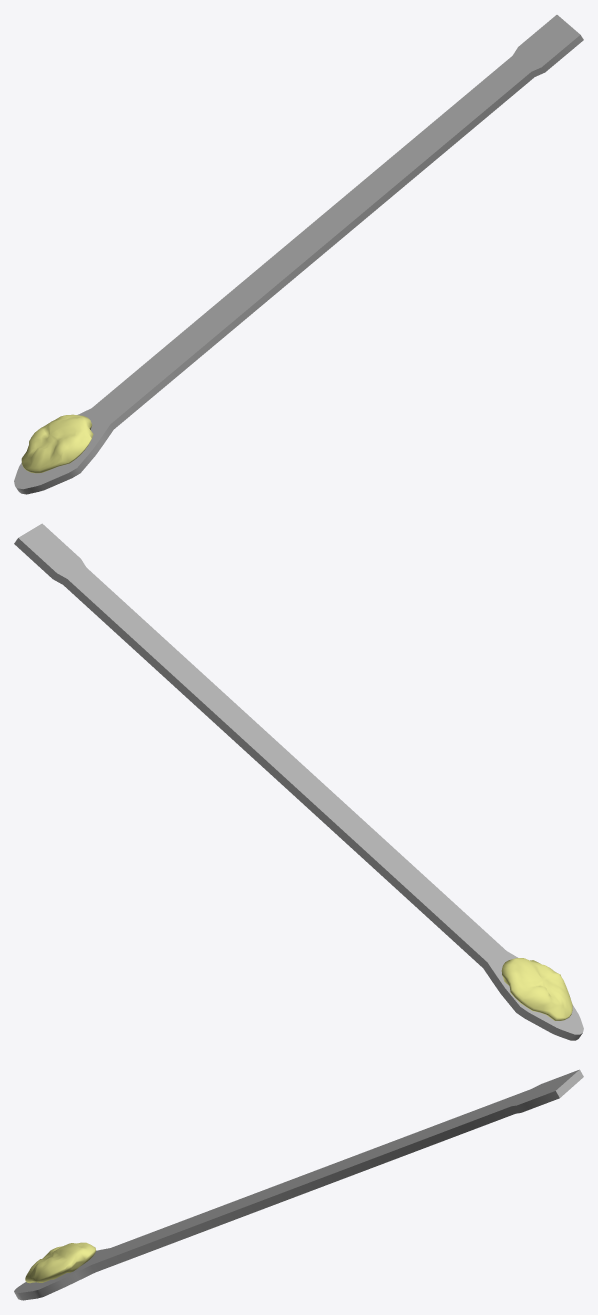
The model's file is spatula + lactose broth.fbx.
The picture shows the model from 3 angles, top to bottom: view 1: azimuth 30°, elevation 25°; view 2: azimuth 150°, elevation 25°; view 3: azimuth 330°, elevation 25°; orthographic projection. The views are drawn at different scales.
Visible parts, largest first — view 1: Plane.002, Sphere.004; view 2: Plane.002, Sphere.004; view 3: Plane.002, Sphere.004.
Boxes of the visible parts, x1,y1,x2,y2 form: Plane.002: (14, 15, 583, 494); Sphere.004: (21, 414, 93, 473); Plane.002: (14, 523, 583, 1040); Sphere.004: (501, 958, 572, 1020); Plane.002: (14, 1069, 583, 1300); Sphere.004: (25, 1242, 96, 1283).
Size of the model in its own units: 12.28 by 7.52 by 1.65.
